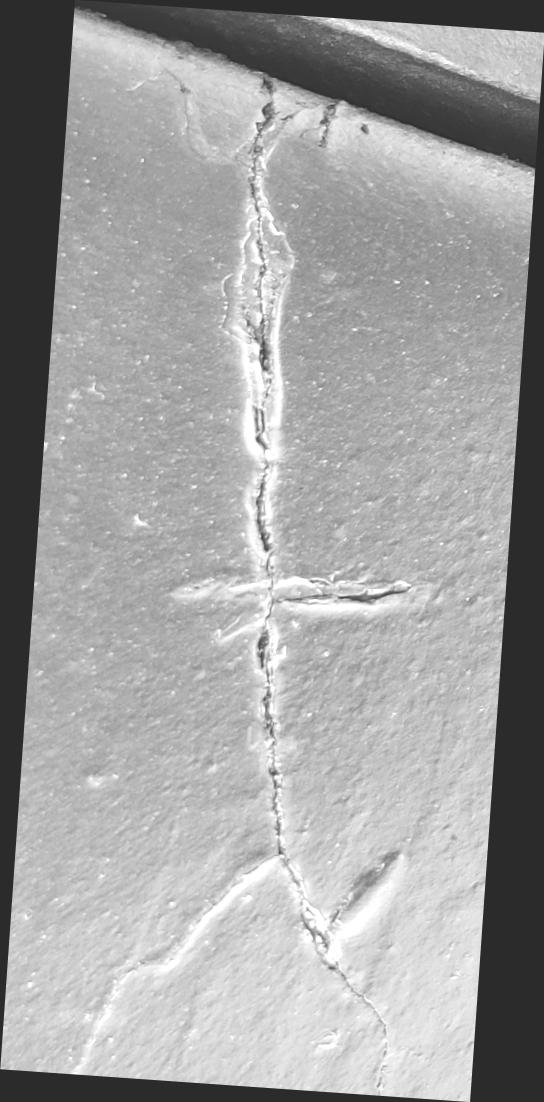crack: (0, 1, 544, 1102)
